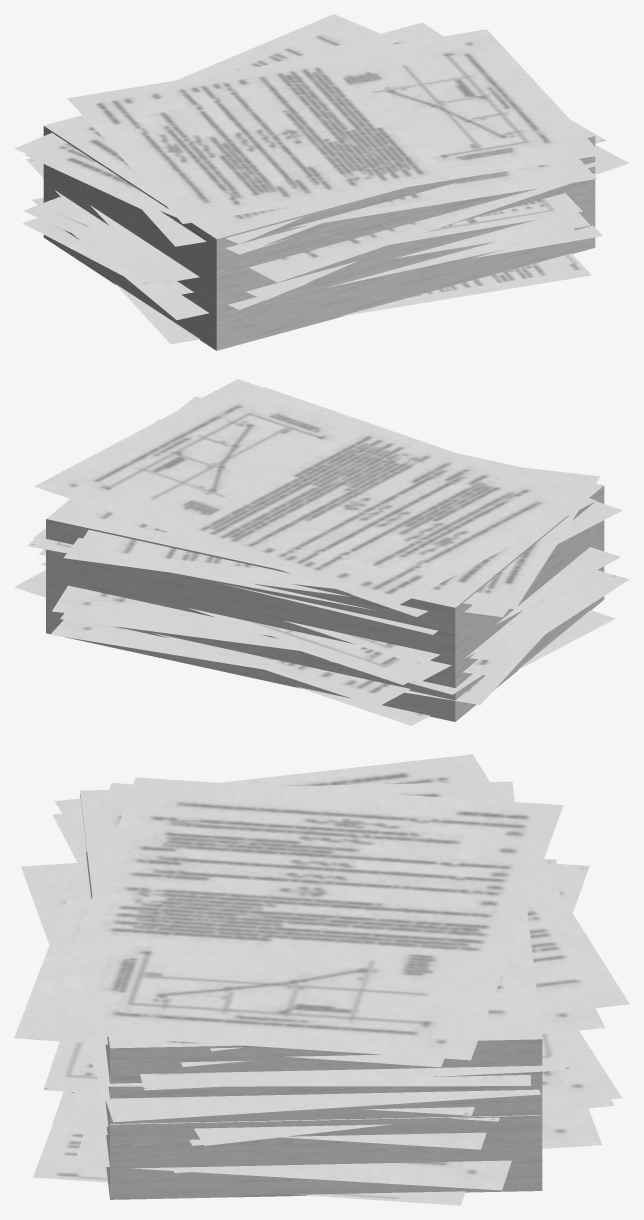
File: Papeles1.fbx
The picture shows the model from 3 angles, top to bottom: view 1: azimuth 30°, elevation 25°; view 2: azimuth 150°, elevation 25°; view 3: azimuth 270°, elevation 25°; orthographic projection. The views are drawn at different scales.
Parts seen in each view (by area): view 1: Papers.001; view 2: Papers.001; view 3: Papers.001.
Part boxes in pixels (<box>): Papers.001: <box>14,14,629,350</box>; Papers.001: <box>14,379,629,725</box>; Papers.001: <box>14,754,629,1205</box>.
Bounding box in the file's own units: 788 × 179 × 641.
Materials: 1 (1 with a texture image).
